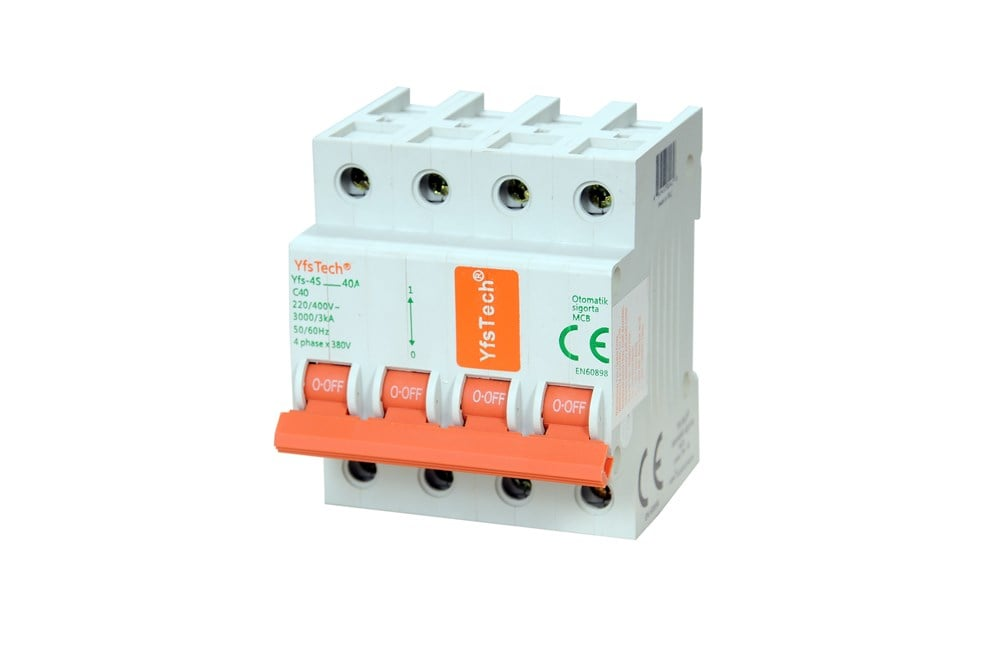devre_kesici: (260, 70, 744, 559)
